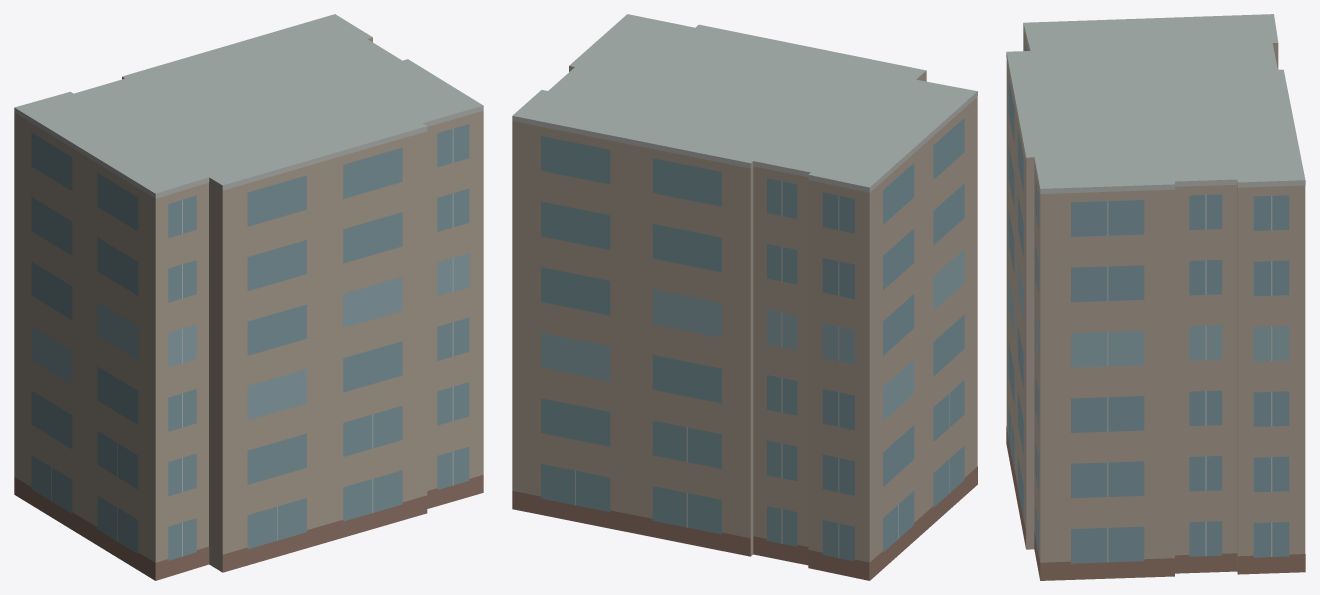
Rendered from survey-upis-32757110.glb.
3 views of the same model, side by side, from view 1: azimuth 30°, elevation 25°; view 2: azimuth 150°, elevation 25°; view 3: azimuth 270°, elevation 25° (orthographic).
Parts seen in each view (by area): view 1: survey-upis-32757110.tmp; view 2: survey-upis-32757110.tmp; view 3: survey-upis-32757110.tmp.
Boxes of the visible parts, bbox=[...] form: survey-upis-32757110.tmp: bbox=[14, 14, 483, 580]; survey-upis-32757110.tmp: bbox=[512, 14, 977, 580]; survey-upis-32757110.tmp: bbox=[1006, 14, 1305, 580].
Bounding box in the file's own units: 17.52 × 18.3 × 12.66.
